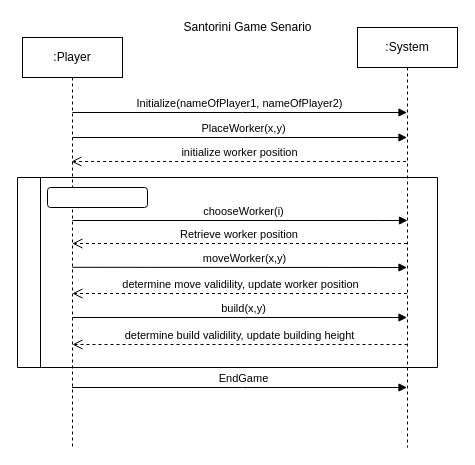
Some shapes in this 475 by 465 pixel diagram are drawn without their labels. The centre of each missing label's shape, as x and y in pixels:
"isPlayerWin" goes at (x=97, y=197).
"Loop" goes at (x=227, y=272).
